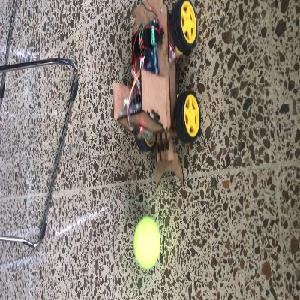Ball: (132, 216, 160, 269)
Robot: (112, 2, 202, 185)
